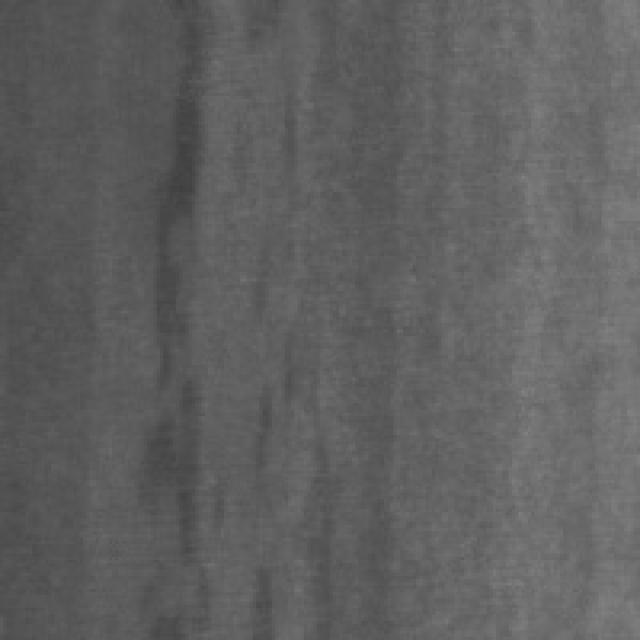inclusion: (189, 16, 310, 630), (128, 0, 233, 566)
